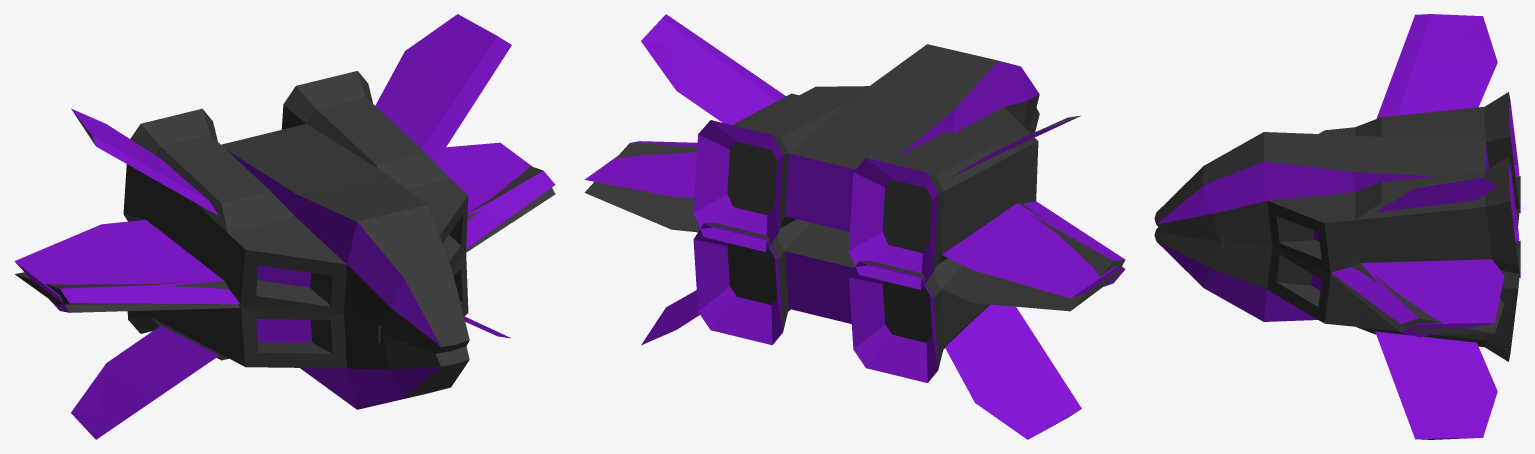
Rendered from Enemy Ship 4.fbx.
The picture shows the model from 3 angles, left to right: view 1: azimuth 30°, elevation 25°; view 2: azimuth 150°, elevation 25°; view 3: azimuth 270°, elevation 25°; orthographic projection. The views are drawn at different scales.
Parts seen in each view (by area): view 1: Cube; view 2: Cube; view 3: Cube.
Boxes of the visible parts, left/top/right/bottom form: Cube: left=14, top=14, right=555, bottom=439; Cube: left=584, top=14, right=1125, bottom=439; Cube: left=1154, top=14, right=1520, bottom=439.
Size of the model in its own units: 438 by 261 by 333.
